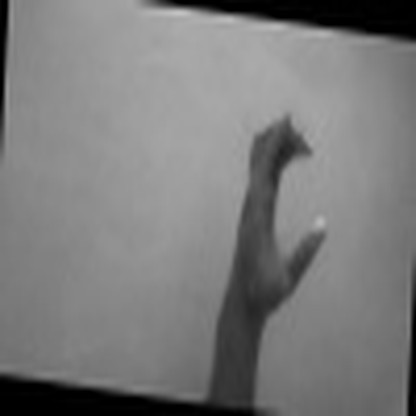c: (232, 105, 331, 305)
